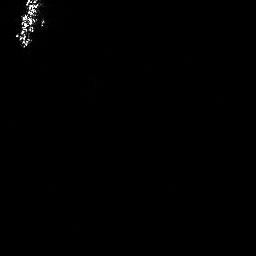ship: (14, 1, 44, 49)
